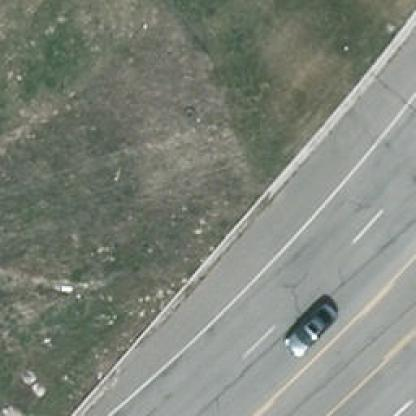car: (278, 300, 338, 360)
